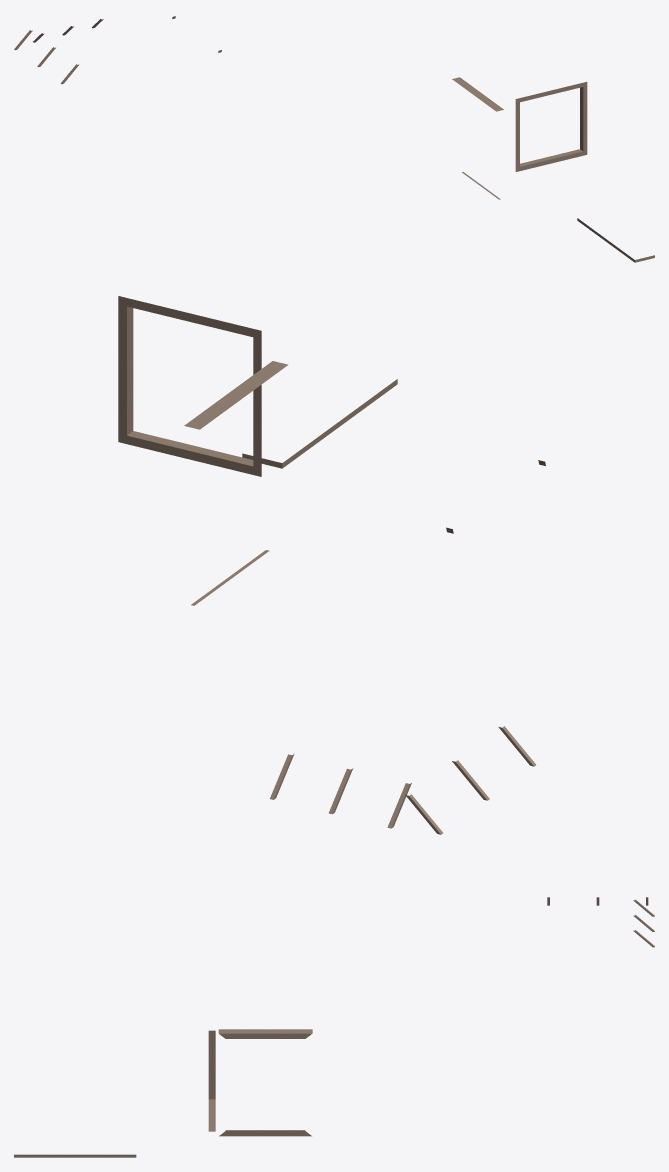
File: kd_stage_135ded_4_18_exterior.glb
3 renders of one model, top to bottom at view 1: azimuth 30°, elevation 25°; view 2: azimuth 150°, elevation 25°; view 3: azimuth 270°, elevation 25°, orthographic. The views are drawn at different scales.
Visible parts, largest first — view 1: kd_stage_135ded_4_18_exterior; view 2: kd_stage_135ded_4_18_exterior; view 3: kd_stage_135ded_4_18_exterior.
Part boxes in pixels (x1,y1,x2,y2): kd_stage_135ded_4_18_exterior: (14, 16, 654, 262); kd_stage_135ded_4_18_exterior: (118, 296, 545, 834); kd_stage_135ded_4_18_exterior: (14, 897, 654, 1157).
Bounding box in the file's own units: 6.89 × 2.78 × 9.88.
1 material, 1 textured.
